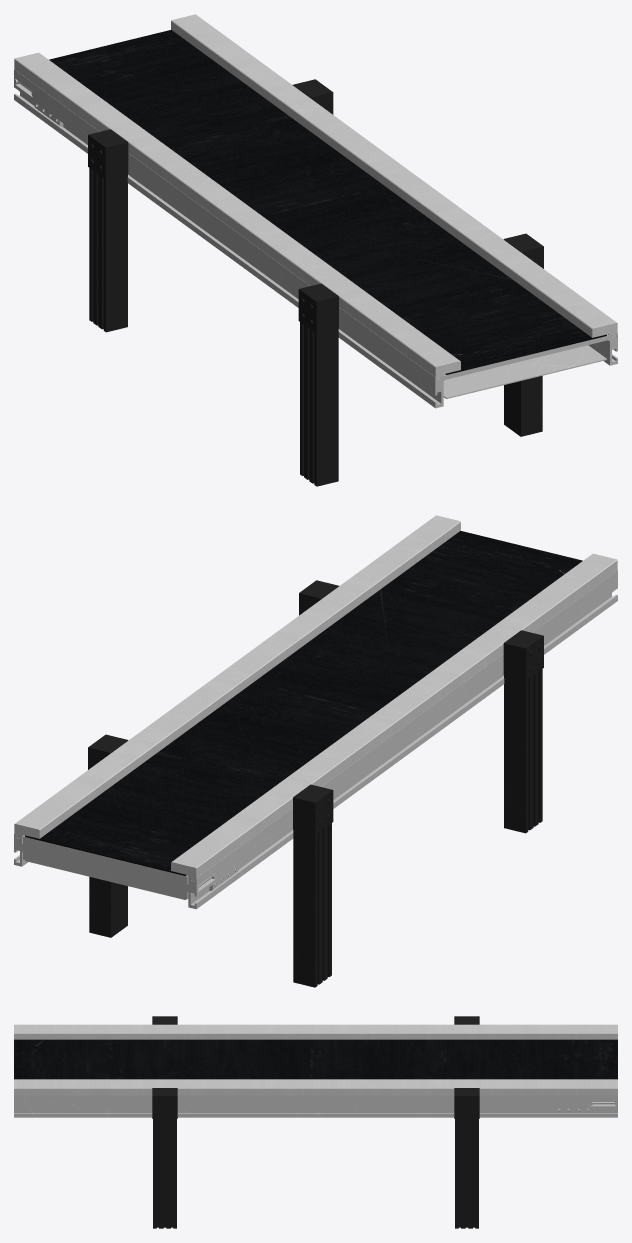
File: Conveyor_Main.glb
3 views of the same model, one above another, from view 1: azimuth 30°, elevation 25°; view 2: azimuth 150°, elevation 25°; view 3: azimuth 270°, elevation 25° (orthographic). The views are drawn at different scales.
Visible parts, largest first — view 1: belt, object 5, object 4, object 6, object 7, object 9, object 2, object 8, object 1, object 10; view 2: belt, object 5, object 4, object 6, object 9, object 7, object 1, object 10, object 8; view 3: belt, object 6, object 4, object 5, object 8, object 10, object 1.
Part boxes in pixels (bbox=[...]): belt: bbox=[49, 30, 606, 374]; object 5: bbox=[14, 52, 460, 380]; object 4: bbox=[171, 14, 617, 337]; object 6: bbox=[45, 92, 617, 408]; object 7: bbox=[88, 129, 128, 332]; object 9: bbox=[298, 283, 338, 486]; object 2: bbox=[443, 345, 606, 398]; object 8: bbox=[503, 233, 543, 436]; object 1: bbox=[14, 69, 63, 127]; object 10: bbox=[293, 79, 333, 114]; belt: bbox=[25, 531, 582, 875]; object 5: bbox=[171, 553, 617, 881]; object 4: bbox=[14, 515, 460, 838]; object 6: bbox=[226, 570, 617, 885]; object 9: bbox=[503, 630, 543, 833]; object 7: bbox=[293, 784, 333, 987]; object 1: bbox=[14, 834, 238, 909]; object 10: bbox=[88, 734, 128, 937]; object 8: bbox=[299, 580, 338, 615]; belt: bbox=[14, 1039, 617, 1079]; object 6: bbox=[14, 1095, 573, 1117]; object 4: bbox=[14, 1079, 617, 1095]; object 5: bbox=[14, 1024, 617, 1039]; object 8: bbox=[152, 1088, 177, 1228]; object 10: bbox=[454, 1088, 479, 1228]; object 1: bbox=[555, 1095, 617, 1117].
Bounding box in the file's own units: 0.3155 × 0.2425 × 1.
Materials: 4 (4 with a texture image).
